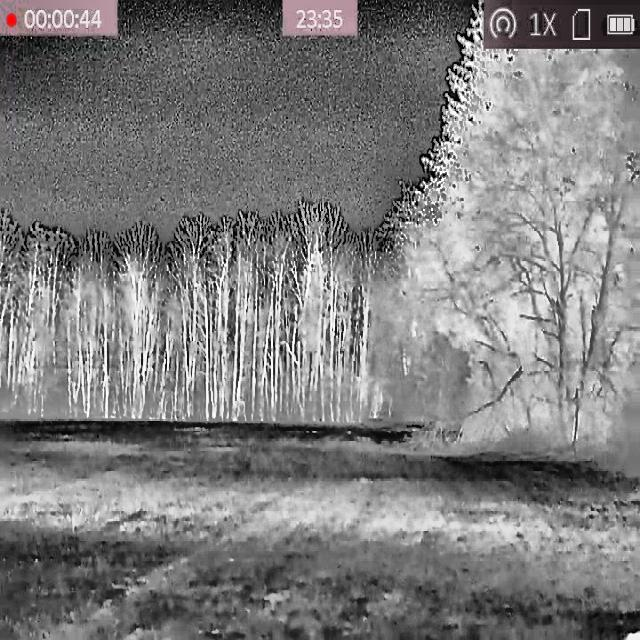drone: (193, 281, 200, 289)
